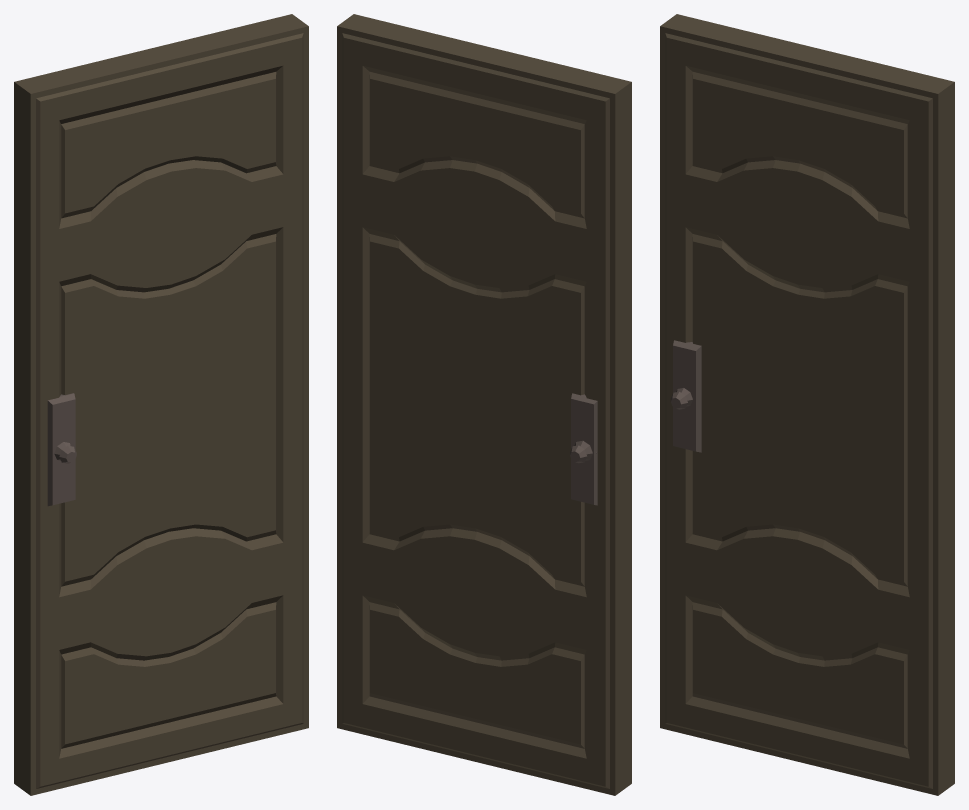
3 views of the same model, side by side, from view 1: azimuth 30°, elevation 25°; view 2: azimuth 150°, elevation 25°; view 3: azimuth 330°, elevation 25° (orthographic).
Visible parts, largest first — view 1: Door_8_Cube.056; view 2: Door_8_Cube.056; view 3: Door_8_Cube.056.
Part boxes in pixels (box(x1,y1,x2,y2)): Door_8_Cube.056: box(14, 14, 308, 795); Door_8_Cube.056: box(337, 14, 631, 795); Door_8_Cube.056: box(660, 14, 954, 795).
Bounding box in the file's own units: 1.74 × 4.2 × 0.4424.
